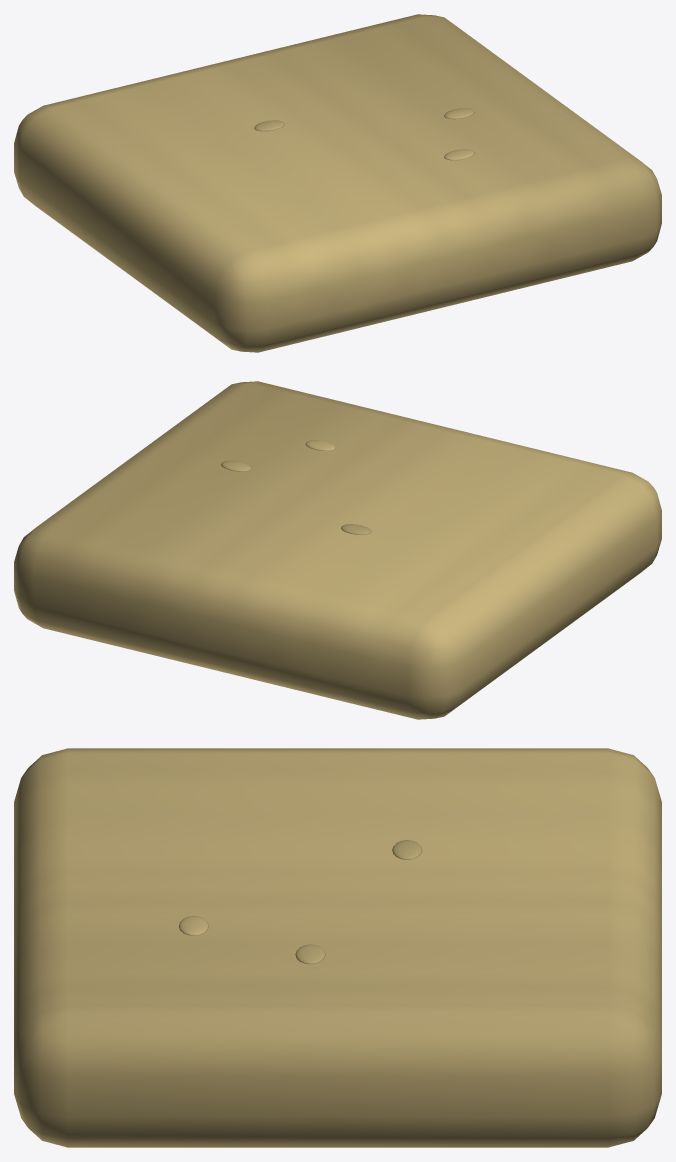
The model's file is Tile_2.fbx.
The picture shows the model from 3 angles, top to bottom: view 1: azimuth 30°, elevation 25°; view 2: azimuth 150°, elevation 25°; view 3: azimuth 270°, elevation 25°; orthographic projection. The views are drawn at different scales.
Visible parts, largest first — view 1: Tile_2; view 2: Tile_2; view 3: Tile_2.
Boxes of the visible parts, box(x1,y1,x2,y2) form: Tile_2: box(14, 14, 661, 352); Tile_2: box(14, 381, 661, 719); Tile_2: box(14, 748, 661, 1147).
Size of the model in its own units: 98 by 21.5 by 90.
1 material, 1 textured.
